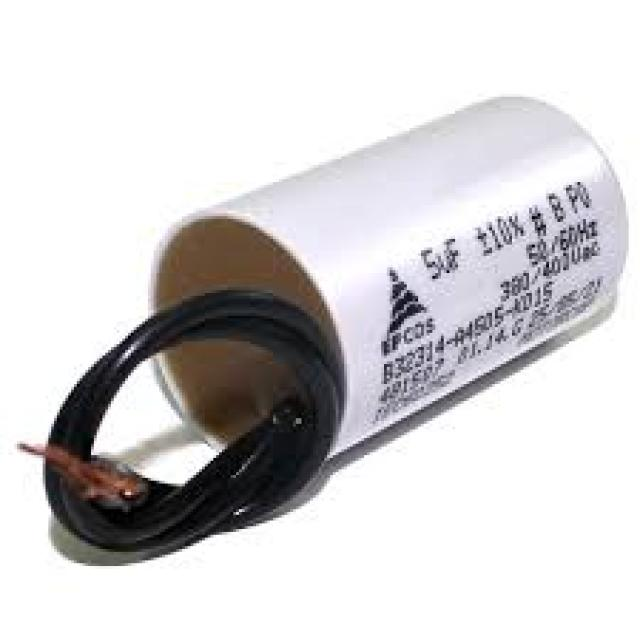Capacitor: (23, 94, 631, 569)
